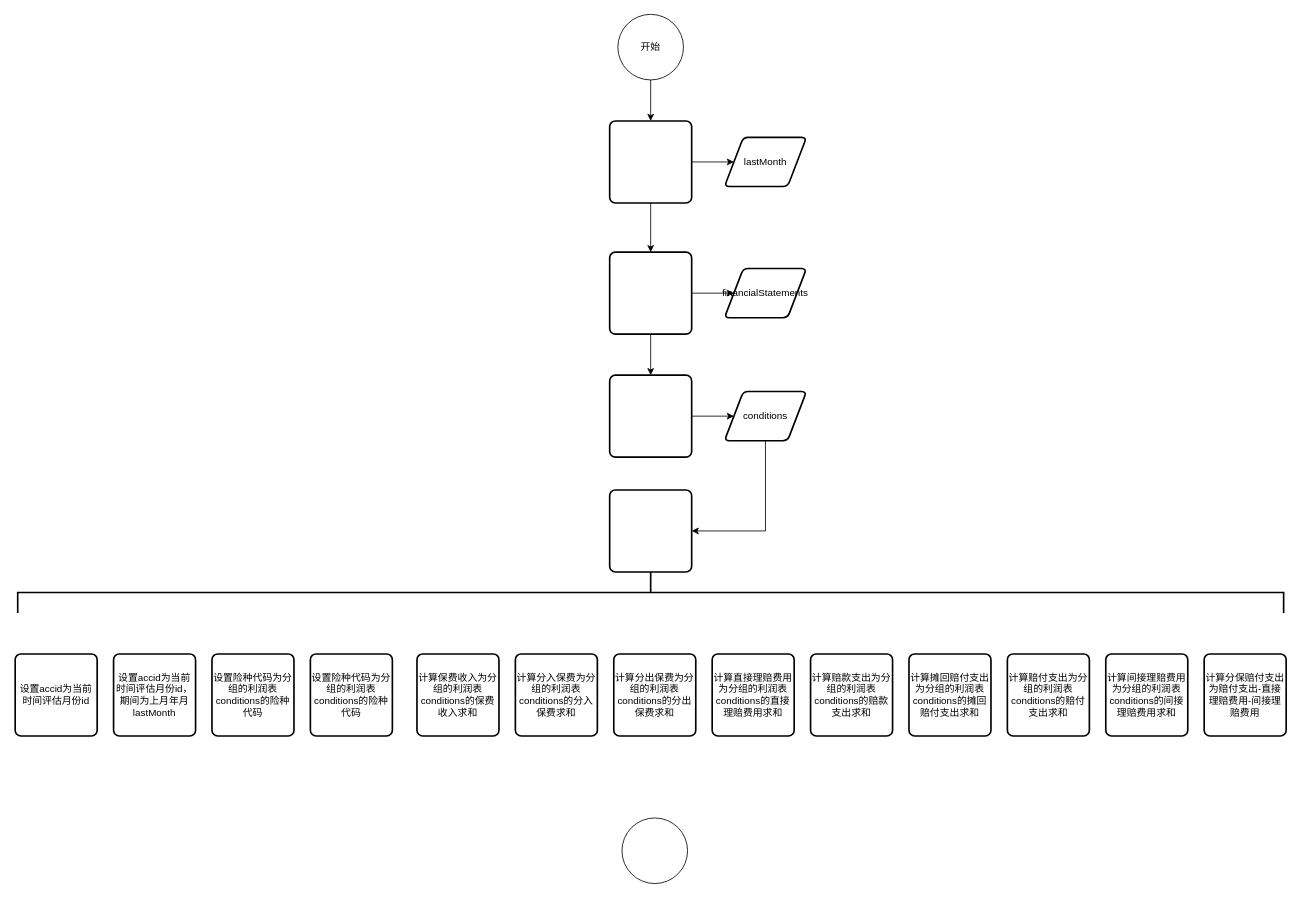
The diagram is 1301 pixels wide and 898 high, and some of its shapes have lost their labels. The shapes that lost their labels are listed below. From the top down, each one's centre as x and y in pixels, then its label:
At pixel 650 161: "获取指定年月的上月时间".
At pixel 650 293: "获取指定年月的上月查询财务利润表月份为上月，类型为“累积数”，险种不为’‘分险种合计’‘的所有数据".
At pixel 650 416: "对财务利润表按险种分组计算，每组数据为conditions".
At pixel 650 530: "创建核对明细表，设置类型为“财务”".
At pixel 654 850: "结束".
